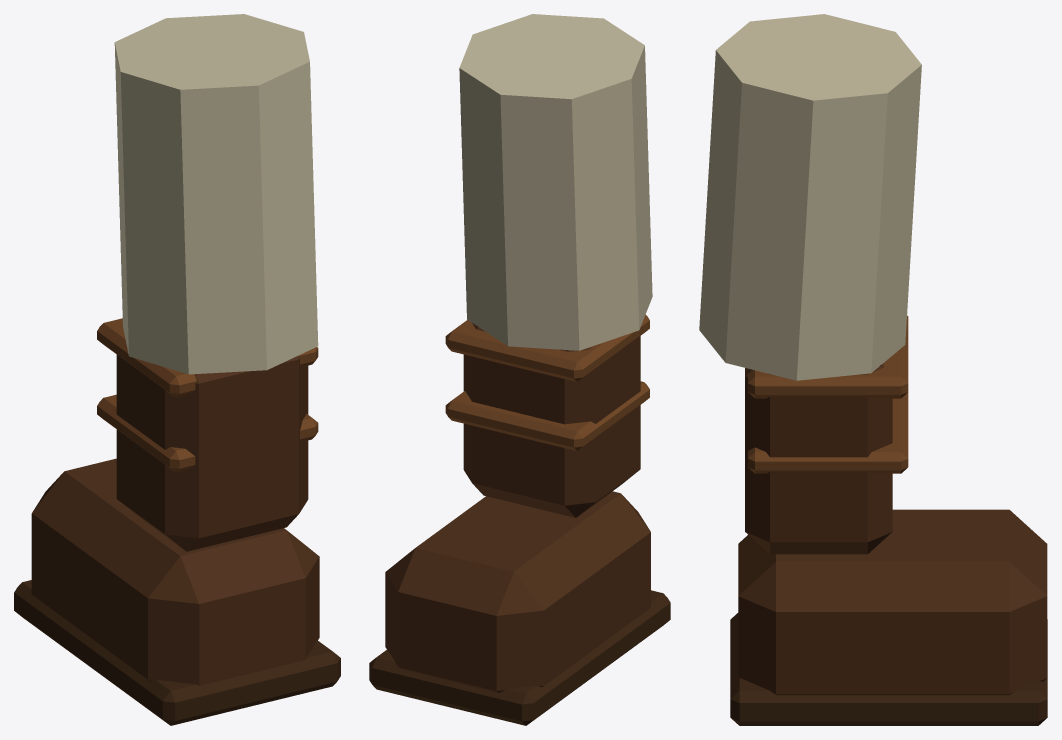
The model's file is LegLeft.glb.
The picture shows the model from 3 angles, left to right: view 1: azimuth 30°, elevation 25°; view 2: azimuth 150°, elevation 25°; view 3: azimuth 270°, elevation 25°; orthographic projection. The views are drawn at different scales.
Parts seen in each view (by area): view 1: Sculpture; view 2: Sculpture; view 3: Sculpture.
Part boxes in pixels (bbox=[...]): Sculpture: bbox=[14, 14, 340, 725]; Sculpture: bbox=[369, 14, 670, 725]; Sculpture: bbox=[699, 14, 1047, 725].
Bounding box in the file's own units: 0.224 × 0.758 × 0.3777.
